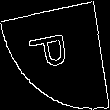P_E: (30, 32, 80, 78)
